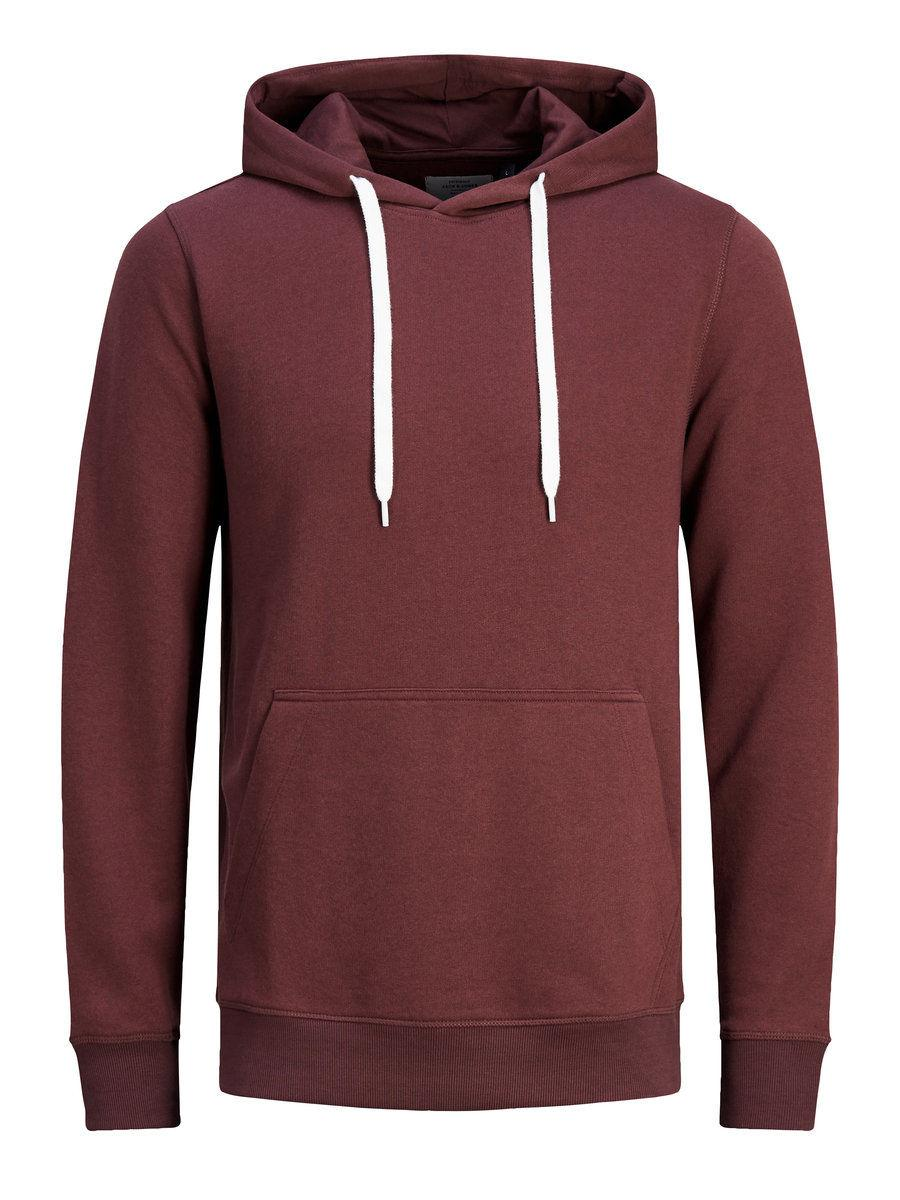teeshirt: (29, 53, 843, 1169)
